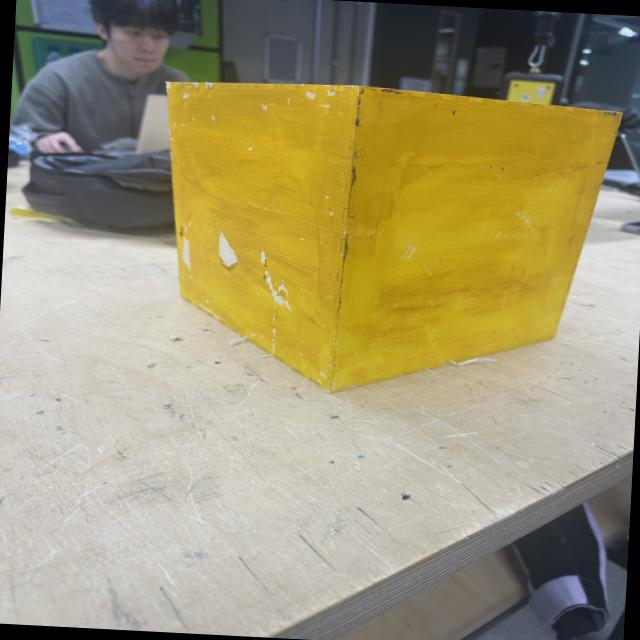yellow_bin: (148, 72, 624, 410)
